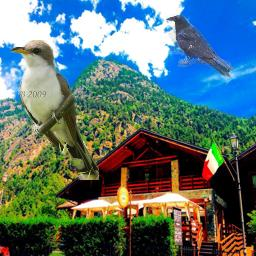Crow: (165, 14, 233, 78)
Cuckoo: (10, 39, 99, 180)
